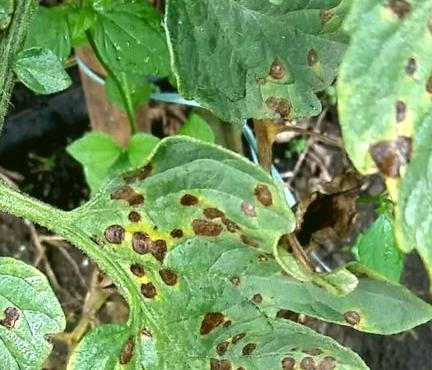Tomato Early blight leaf: (96, 144, 427, 370), (137, 0, 369, 129)
